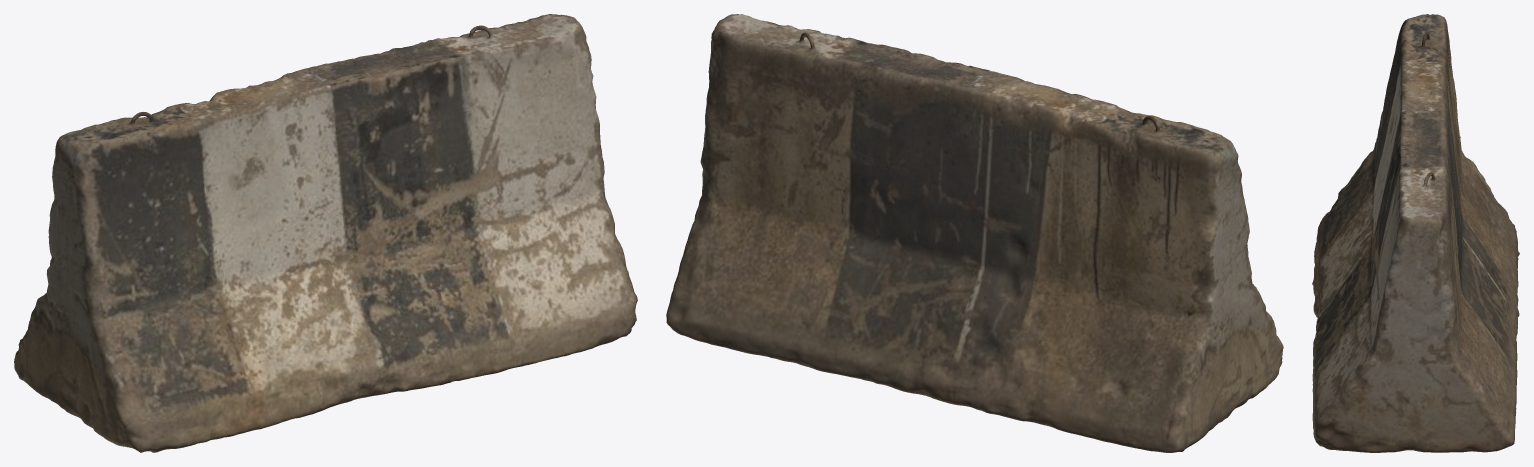
The model's file is concrete_barrier_01.glb.
3 views of the same model, side by side, from view 1: azimuth 30°, elevation 25°; view 2: azimuth 150°, elevation 25°; view 3: azimuth 270°, elevation 25° (orthographic). The views are drawn at different scales.
Visible parts, largest first — view 1: concrete_road_barrier; view 2: concrete_road_barrier; view 3: concrete_road_barrier.
Boxes of the visible parts, x1=… form: concrete_road_barrier: x1=14, y1=14, x2=637, y2=452; concrete_road_barrier: x1=666, y1=14, x2=1283, y2=452; concrete_road_barrier: x1=1312, y1=14, x2=1519, y2=452.
Size of the model in its own units: 1.55 by 0.831 by 0.6387.
Materials: 1 (1 with a texture image).
